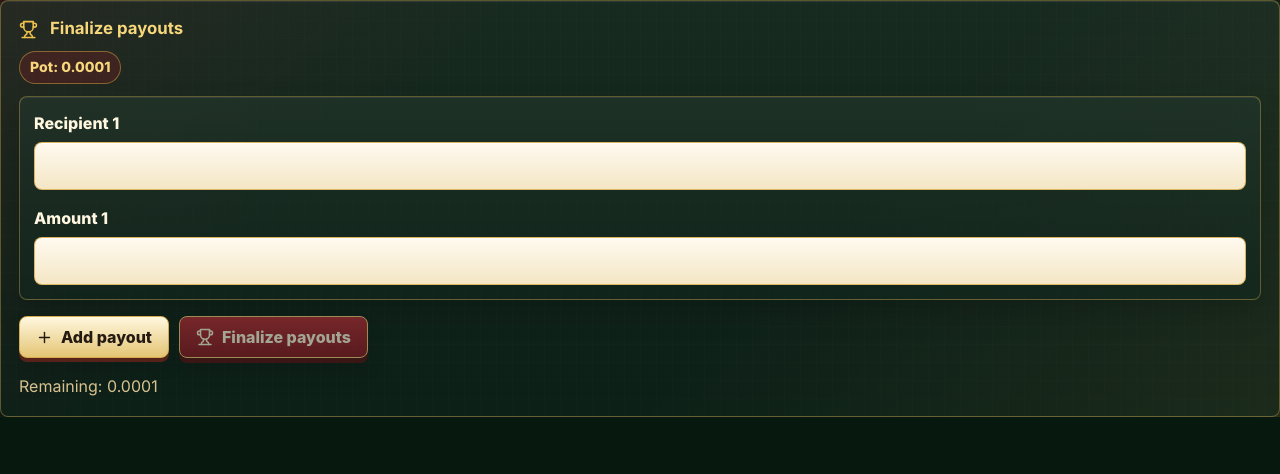
FinalizeForm › disables finalization when payout total does not equal pot
The width and height of the screenshot is (1280, 474).
Type "0x0000000000000000000000000000000000000001" into the field labelled "Recipient 1" at {"x": 640, "y": 166}, box [34,142,1246,190]
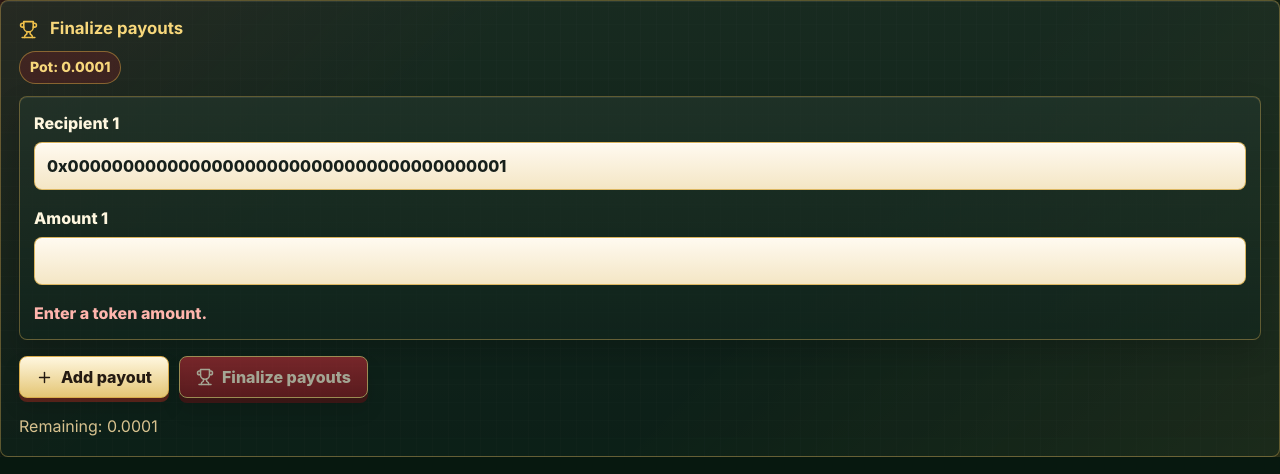
Type "0.000099" into the field labelled "Amount 1" at {"x": 640, "y": 261}, box [34,237,1246,285]
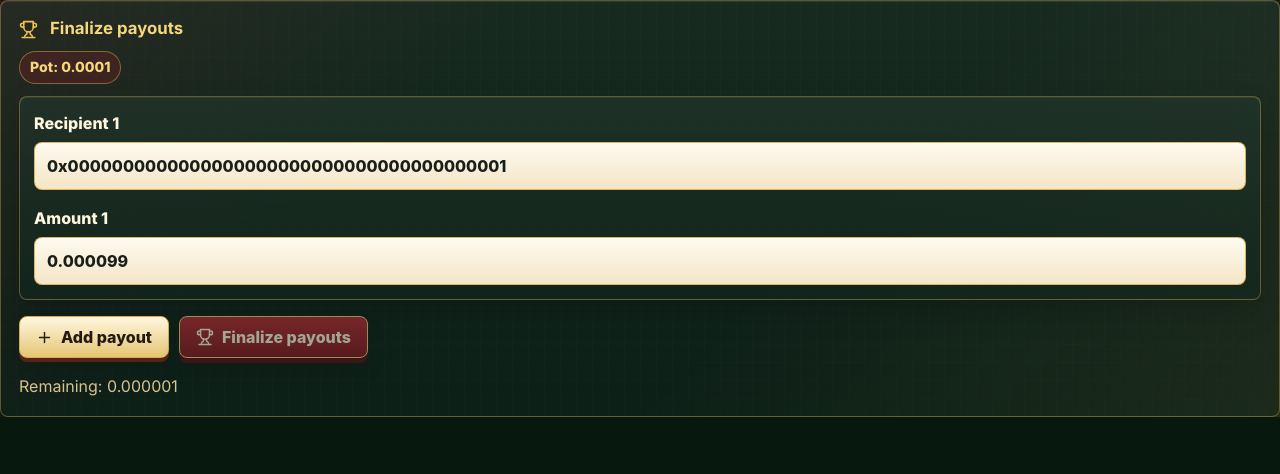
Expected: the button "Finalize payouts" is disabled, [179,316,368,358]
Result: the text "Remaining: 0.000001" is shown at [19,376,178,396]
